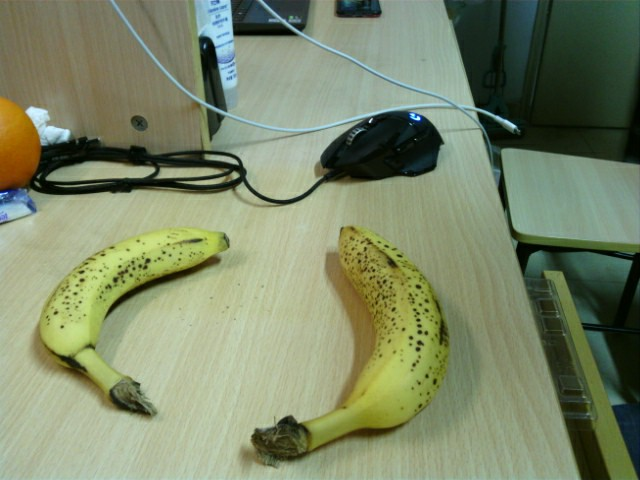normal_banana: (250, 226, 448, 466), (38, 229, 232, 415)
